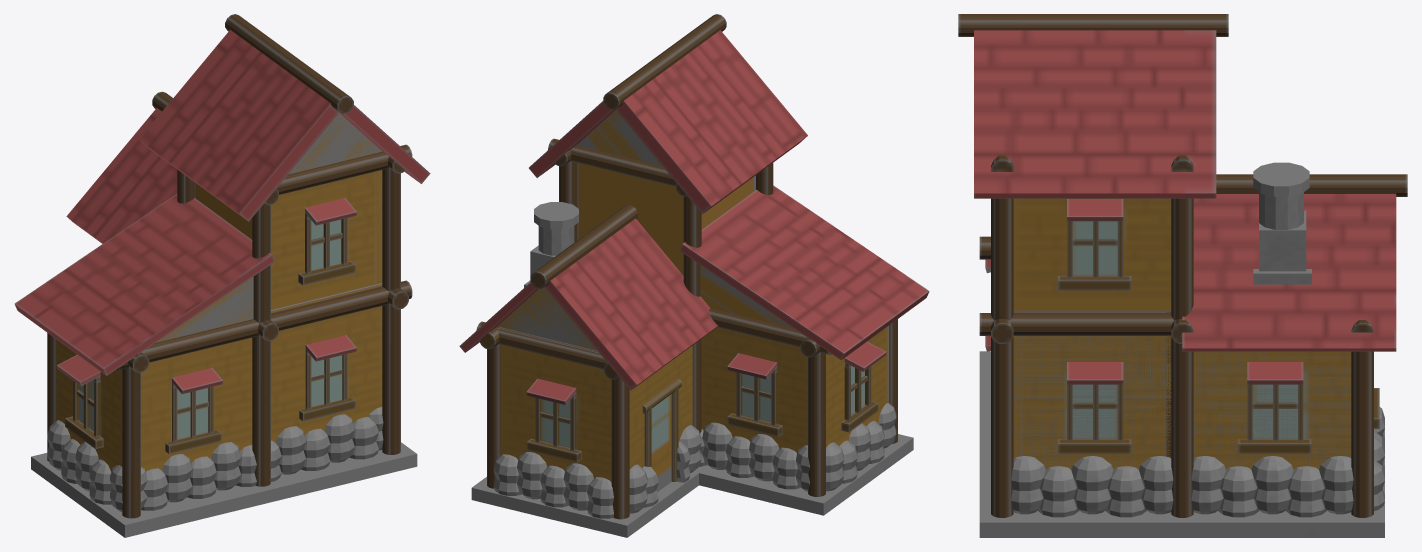
Rendered from house2.fbx.
3 renders of one model, left to right at view 1: azimuth 30°, elevation 25°; view 2: azimuth 150°, elevation 25°; view 3: azimuth 270°, elevation 25°, orthographic. The views are drawn at different scales.
Parts seen in each view (by area): view 1: cube_14, cube_22, cube_4, cube_8, cube_12, cylinder_2, cube_1, cylinder_11, cylinder_4, cube_6, cube, cylinder_7 (+30 smaller); view 2: cube_14, cube_22, cube_12, cube_3, cube_5, cube_7, cube_2, cube_1, cube, cube_6, cube_13, cylinder_5 (+34 smaller); view 3: cube_21, cube_60, cube_11, cube_9, cube, cylinder_2, cylinder_1, cylinder_19, cylinder_10, cylinder, cylinder_18, cube_97 (+32 smaller).
Boxes of the visible parts, x1,y1,x2,y2 form: cube_14: (14,194,275,375); cube_22: (139,29,338,221); cube_4: (141,283,382,471); cube_8: (271,171,378,309); cube_12: (66,108,177,243); cylinder_2: (382,168,400,454); cube_1: (31,453,254,537); cylinder_11: (116,280,412,370); cylinder_4: (252,203,270,486); cube_6: (56,340,122,471); cube: (246,442,417,505); cylinder_7: (122,367,140,518); cube_14: (679,185,929,360); cube_22: (615,30,807,213); cube_12: (545,218,717,390); cube_3: (497,327,611,482); cube_5: (701,327,807,452); cube_7: (578,163,683,275); cube_2: (629,346,692,492); cube_1: (699,434,913,515); cube: (471,465,708,537); cube_6: (826,326,888,447); cube_13: (497,287,597,350); cylinder_5: (611,377,629,519); cube_21: (974,30,1216,198); cube_60: (1013,336,1351,469); cube_11: (1182,193,1396,351); cube_9: (1013,198,1171,312); cube: (979,427,1384,537); cylinder_2: (991,198,1013,517); cylinder_1: (1171,198,1193,517); cylinder_19: (958,14,1228,36); cylinder_10: (979,313,1173,335); cylinder: (1351,351,1373,517); cylinder_18: (1216,174,1407,196); cube_97: (1259,210,1306,271).
Bounding box in the file's own units: 124 × 146 × 125.
Materials: 1 (1 with a texture image).
